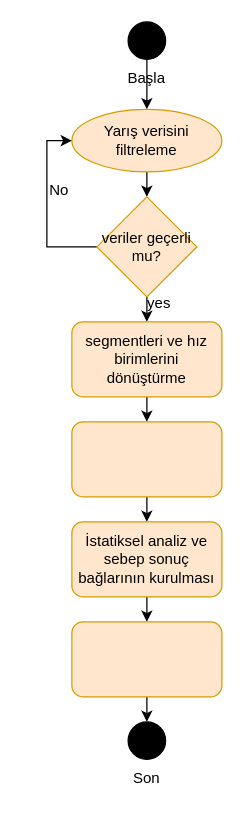
This 244x819 diagram has some shape labels left out. Each missing label, with the box of its shape:
Nihai sonuç: (71, 621, 222, 697)
Performans odaklı gruplandırma: (71, 421, 222, 497)
